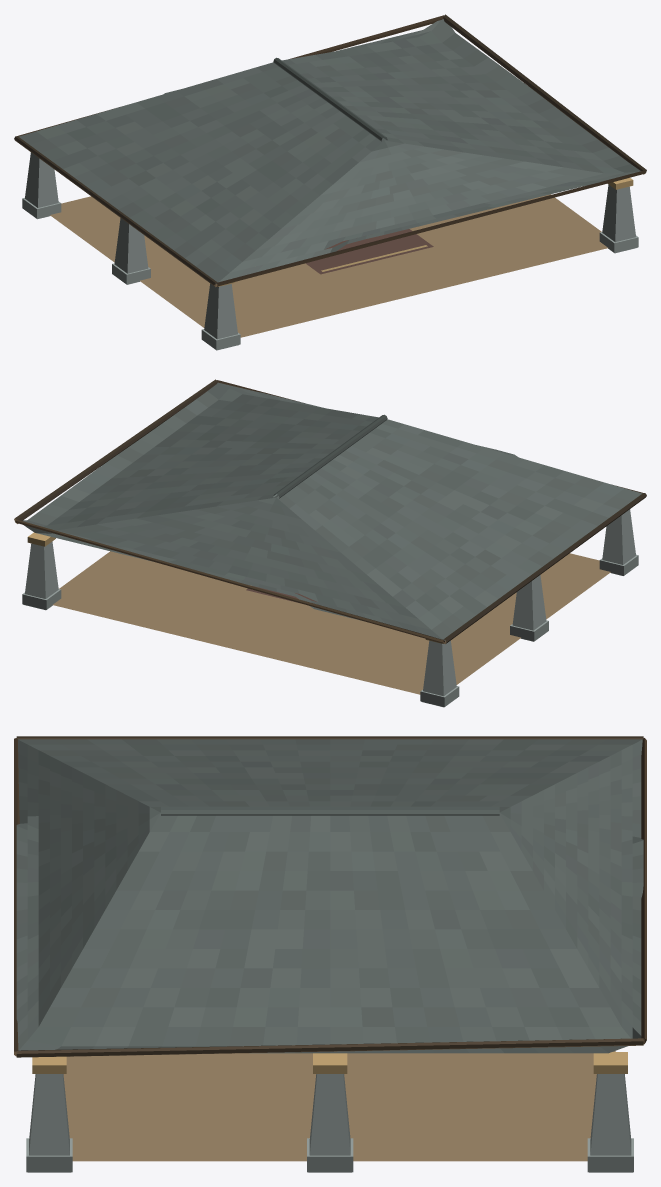
3 views of the same model, one above another, from view 1: azimuth 30°, elevation 25°; view 2: azimuth 150°, elevation 25°; view 3: azimuth 270°, elevation 25° (orthographic). The views are drawn at different scales.
Visible parts, largest first — view 1: 2c2c0cd922e2503cbad2ec44243d33c8e235525ef24aae37231821e53d2e; view 2: 2c2c0cd922e2503cbad2ec44243d33c8e235525ef24aae37231821e53d2e; view 3: 2c2c0cd922e2503cbad2ec44243d33c8e235525ef24aae37231821e53d2e.
Part boxes in pixels (<box>): 2c2c0cd922e2503cbad2ec44243d33c8e235525ef24aae37231821e53d2e: <box>14,14,646,350</box>; 2c2c0cd922e2503cbad2ec44243d33c8e235525ef24aae37231821e53d2e: <box>14,379,646,707</box>; 2c2c0cd922e2503cbad2ec44243d33c8e235525ef24aae37231821e53d2e: <box>14,736,646,1172</box>.
Bounding box in the file's own units: 16.02 × 4.64 × 12.97.
Materials: 6 (1 with a texture image).
